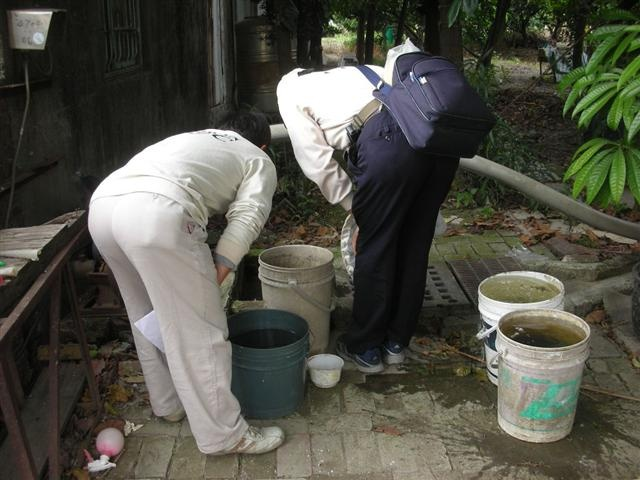bowl: (305, 353, 344, 390)
bucket: (496, 306, 591, 445), (476, 269, 565, 388), (227, 307, 311, 422), (257, 243, 336, 352)
water_tower: (232, 13, 293, 115)
